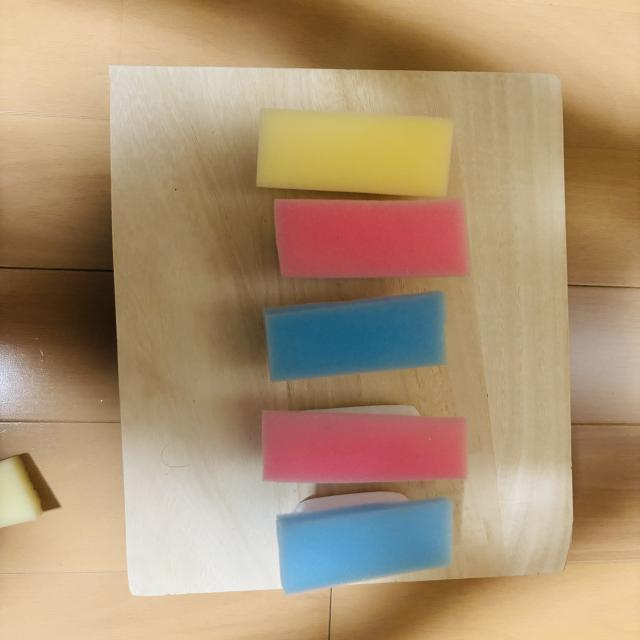ika: (277, 493, 453, 594), (264, 291, 446, 381)
tai: (262, 405, 467, 483), (275, 199, 470, 277)
tamago: (256, 109, 453, 197)
